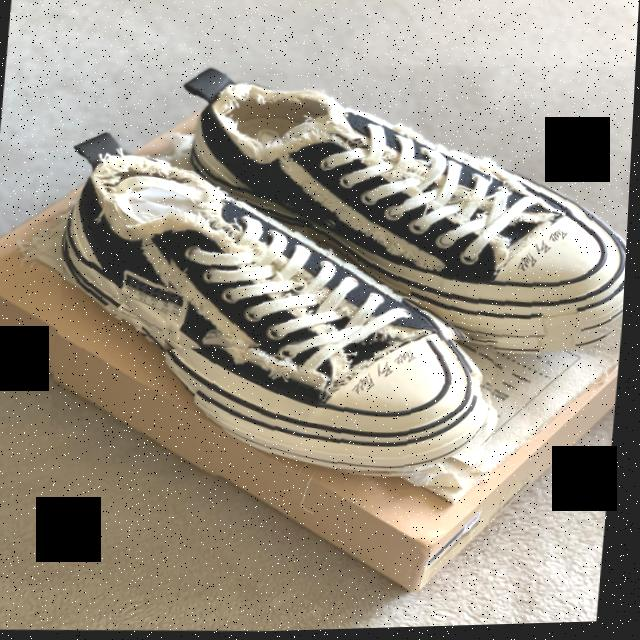shoe: (49, 121, 526, 494), (162, 54, 637, 366)
